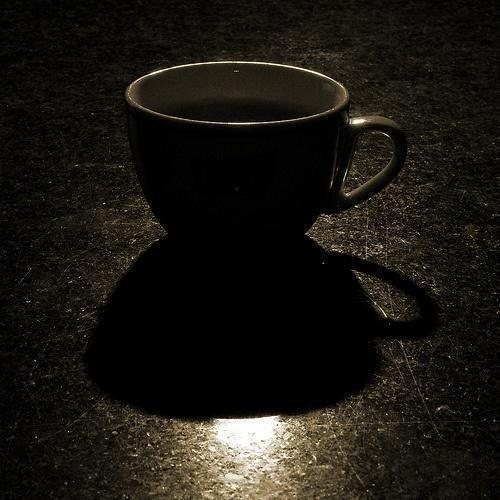cup-handle: (124, 61, 412, 248)
